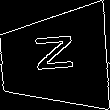N_W: (31, 37, 78, 81)
